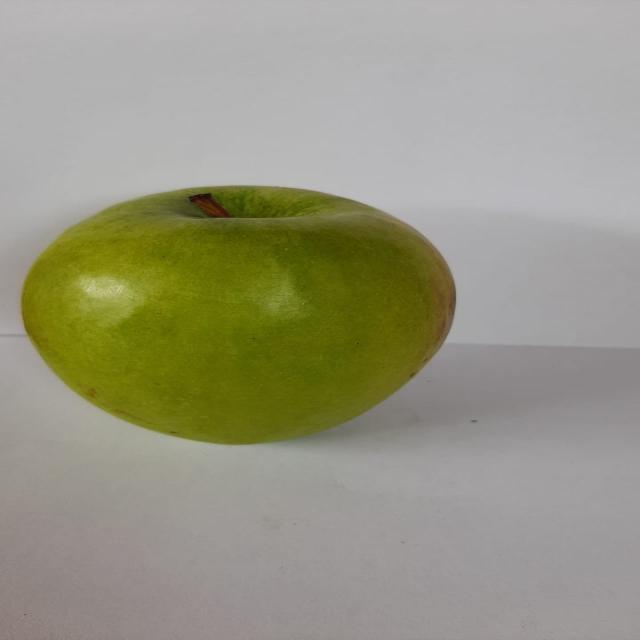50-_ripeness: (13, 175, 486, 454)
